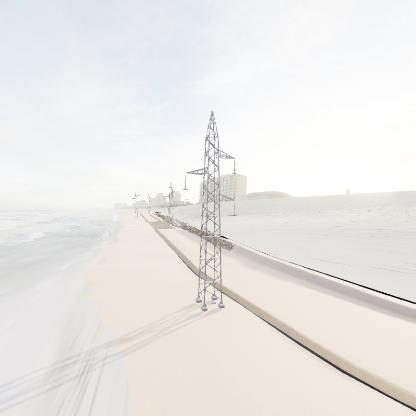tower: (179, 108, 242, 312)
